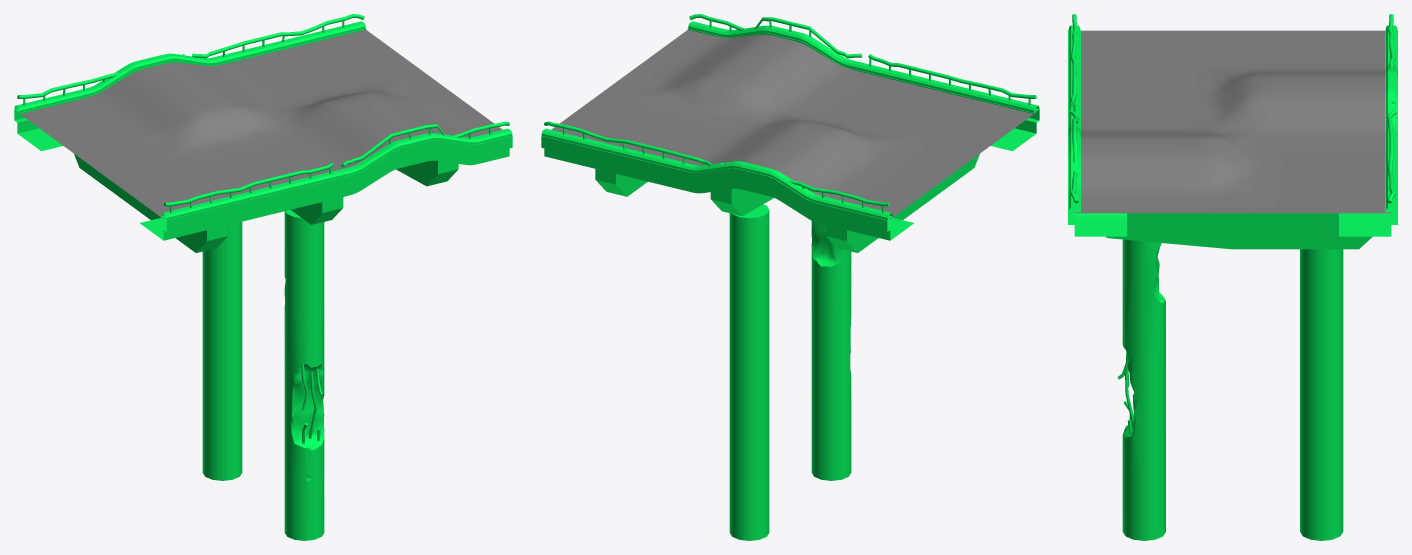
File: Track_Asphalt_07.fbx
3 renders of one model, left to right at view 1: azimuth 30°, elevation 25°; view 2: azimuth 150°, elevation 25°; view 3: azimuth 270°, elevation 25°, orthographic. The views are drawn at different scales.
Parts seen in each view (by area): view 1: Road, Track_Asphalt_07; view 2: Road, Track_Asphalt_07; view 3: Road, Track_Asphalt_07.
Boxes of the visible parts, x1,y1,x2,y2 form: Road: (17, 30, 502, 218); Track_Asphalt_07: (14, 14, 512, 540); Road: (551, 30, 1036, 218); Track_Asphalt_07: (541, 14, 1039, 540); Road: (1074, 30, 1391, 213); Track_Asphalt_07: (1068, 14, 1397, 540).
Size of what is drawn, in the model's own units: 3004 by 2291 by 3389.
